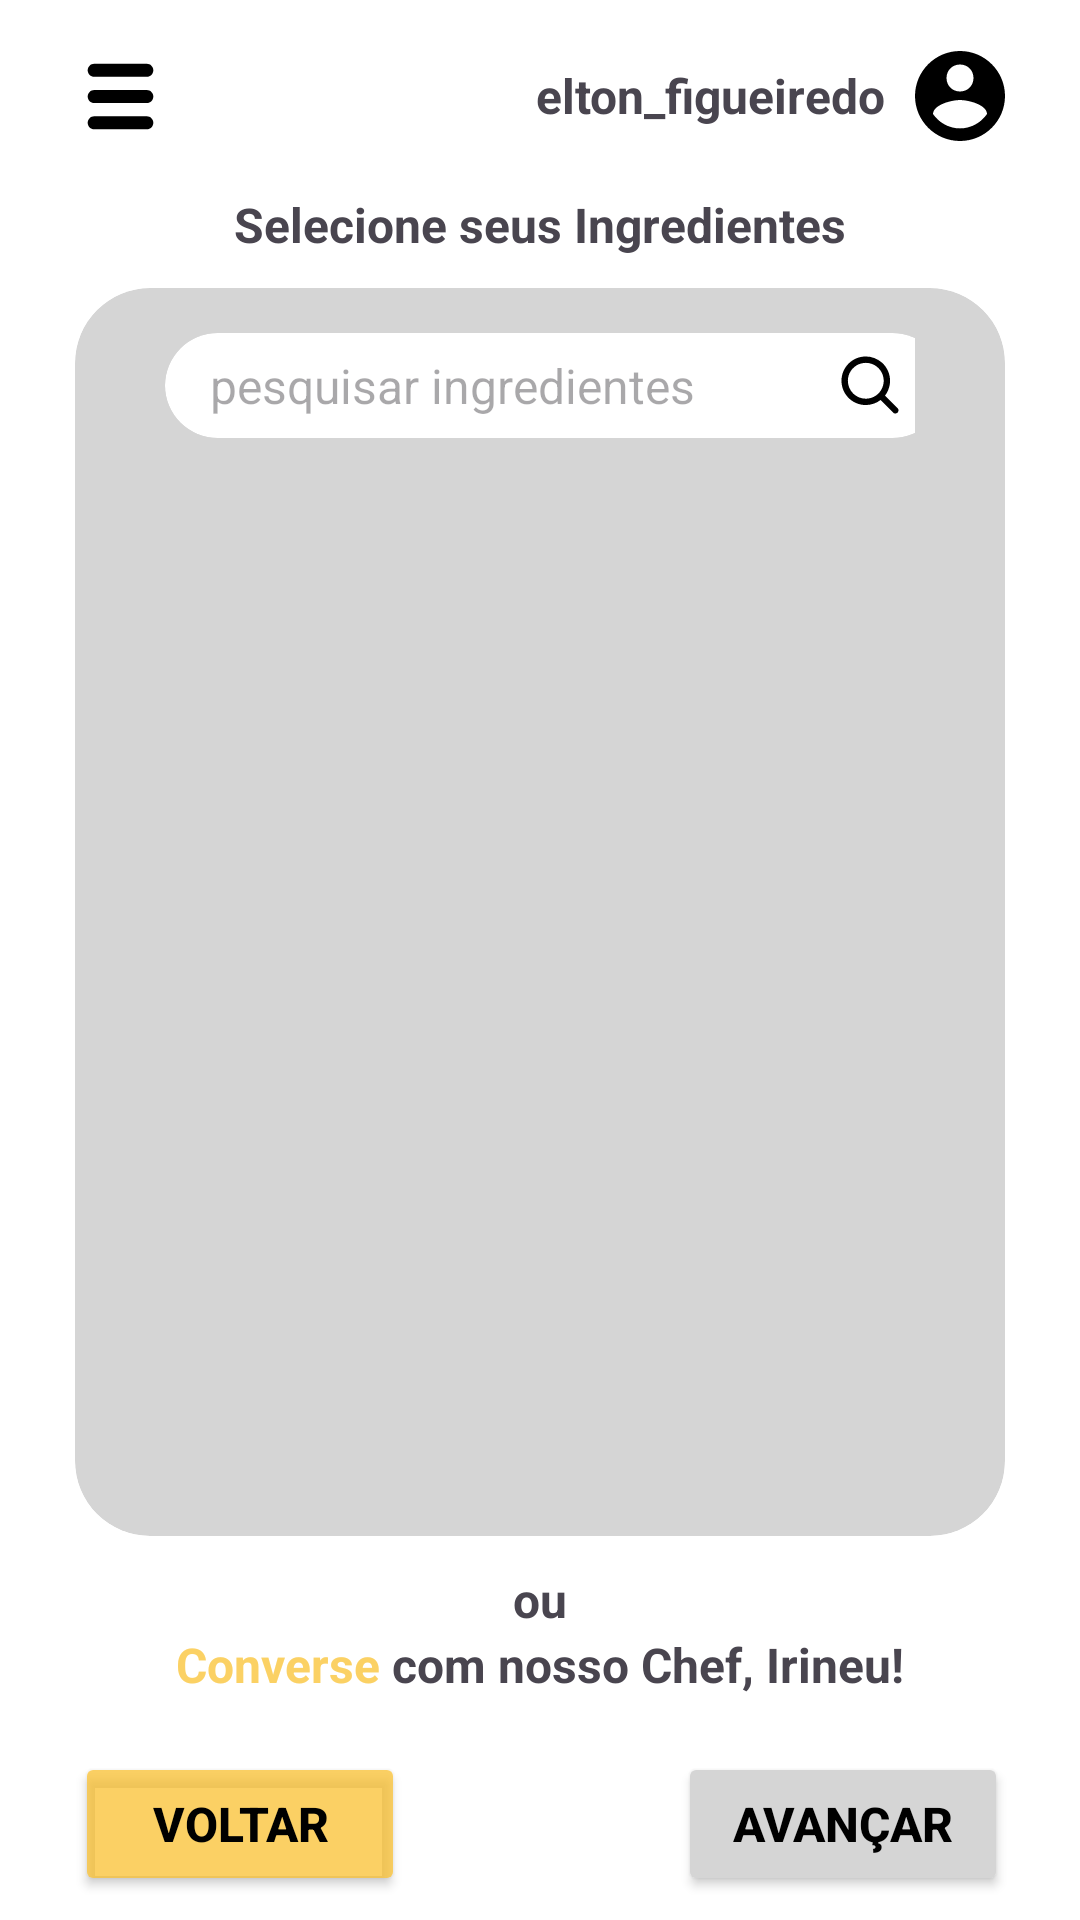

Icons on this 1080 × 1920 Android screen, each with the point to tap as [x,y]:
menu: [120,96]
search: [870,385]
user: [960,96]
